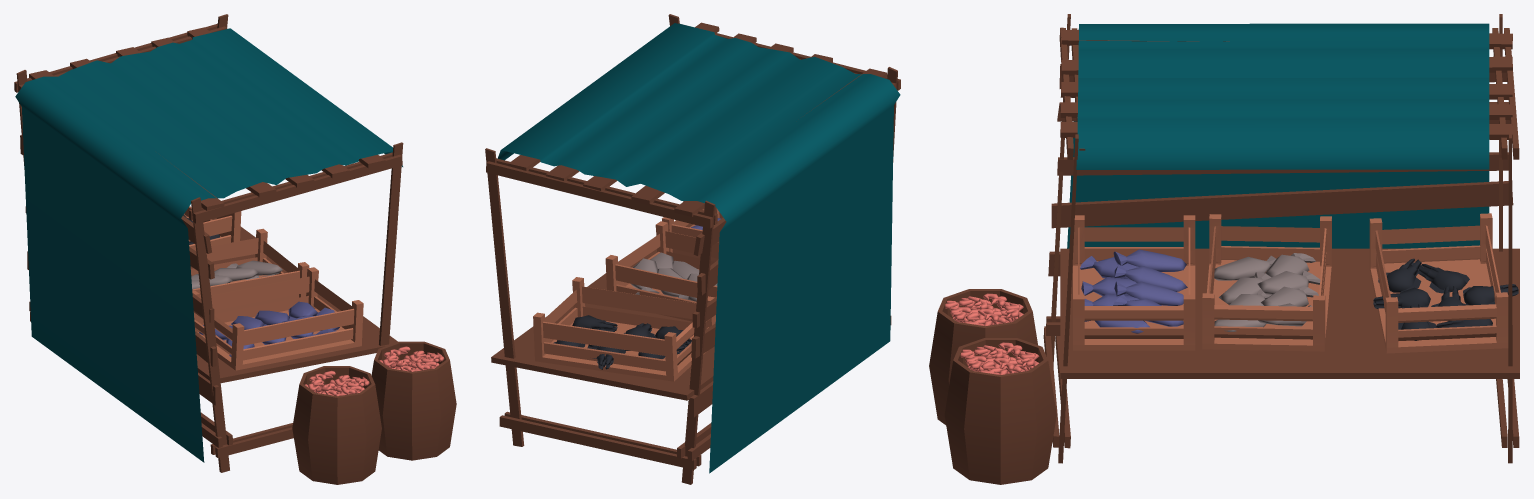
Rendered from fishstall.fbx.
The picture shows the model from 3 angles, left to right: view 1: azimuth 30°, elevation 25°; view 2: azimuth 150°, elevation 25°; view 3: azimuth 270°, elevation 25°; orthographic projection. The views are drawn at different scales.
Visible parts, largest first — view 1: pCube161; view 2: pCube161; view 3: pCube161.
Boxes of the visible parts, x1=… form: pCube161: x1=14, y1=14, x2=456, y2=484; pCube161: x1=485, y1=14, x2=900, y2=484; pCube161: x1=929, y1=14, x2=1519, y2=484.
Bounding box in the file's own units: 11.27 × 12.44 × 19.51.
